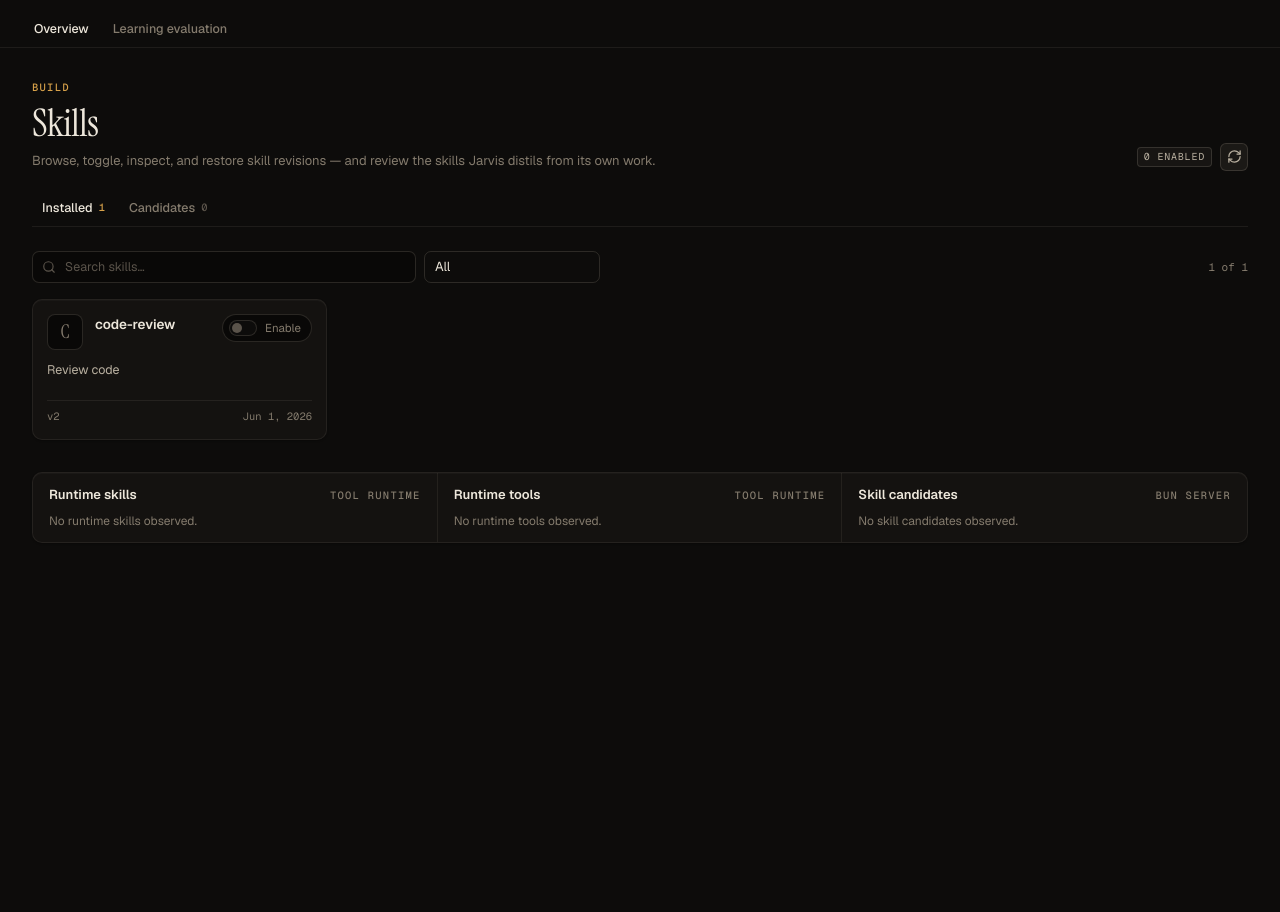
SkillsPage native toggle coordination › retains confirmed enabled=false on rejection and retries from either surface
This screenshot has width=1280, height=912.
Click the button with aria-label "Inspect skill: code-review": x=135, y=324 [95,314,175,334]
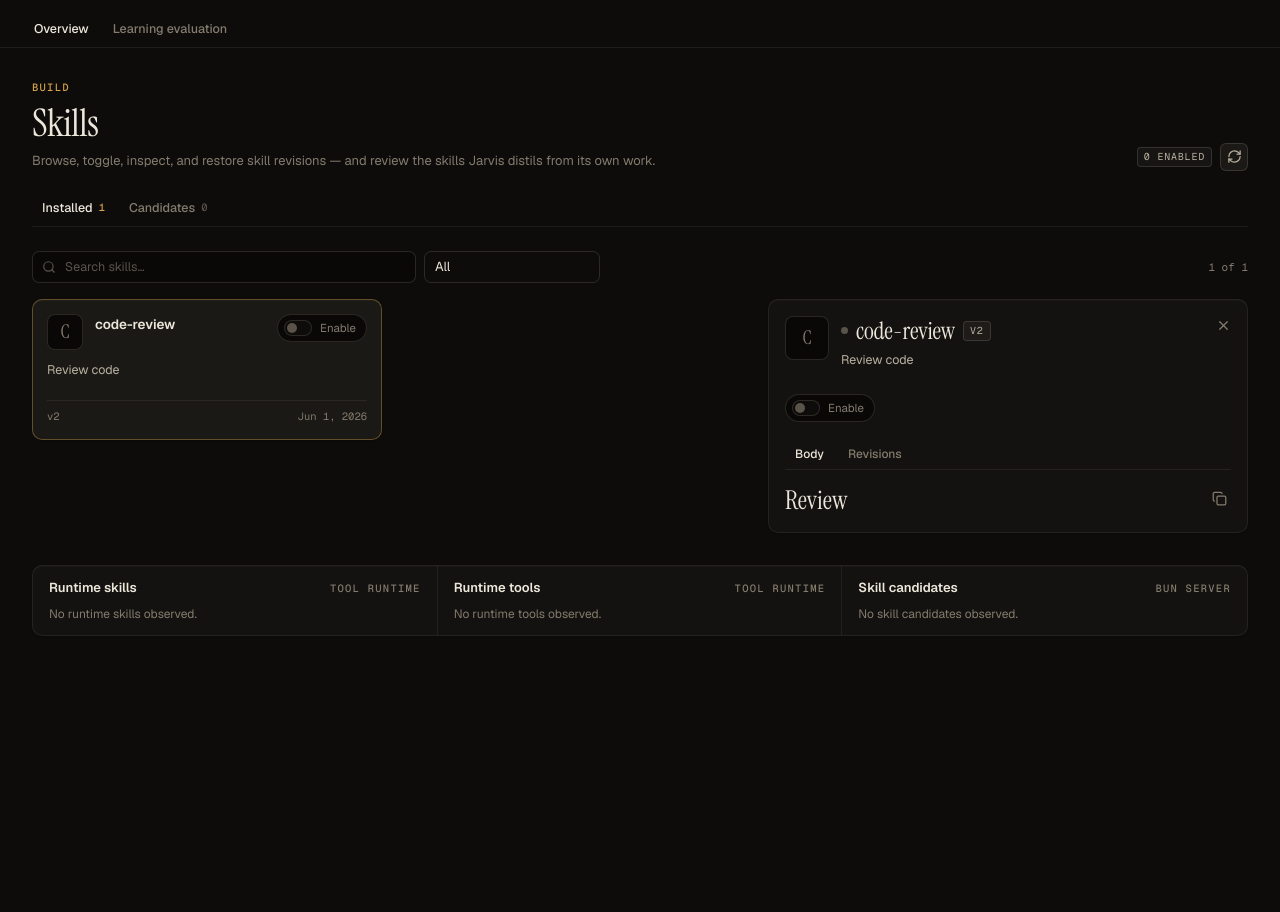
Click the 2nd button "Enable": x=830, y=408 [785,394,875,422]
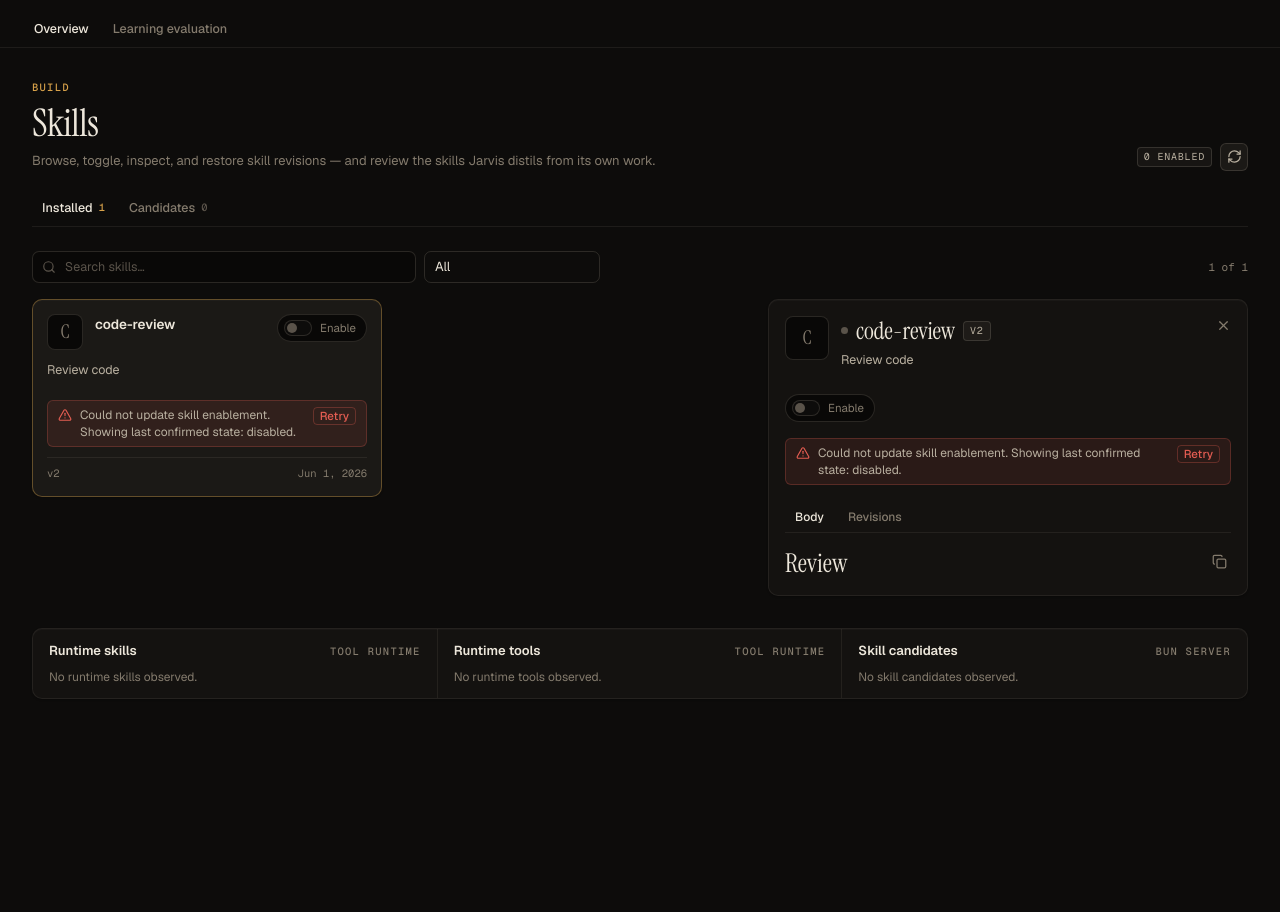
Expected: the text "0 enabled" is shown, [1144,149,1205,164]
Now the 1st message shows "Could not update skill enablement. Showing last confirmed state", box [80,407,270,440]
Click the 1st button "Retry": x=334, y=416 [313,407,356,425]
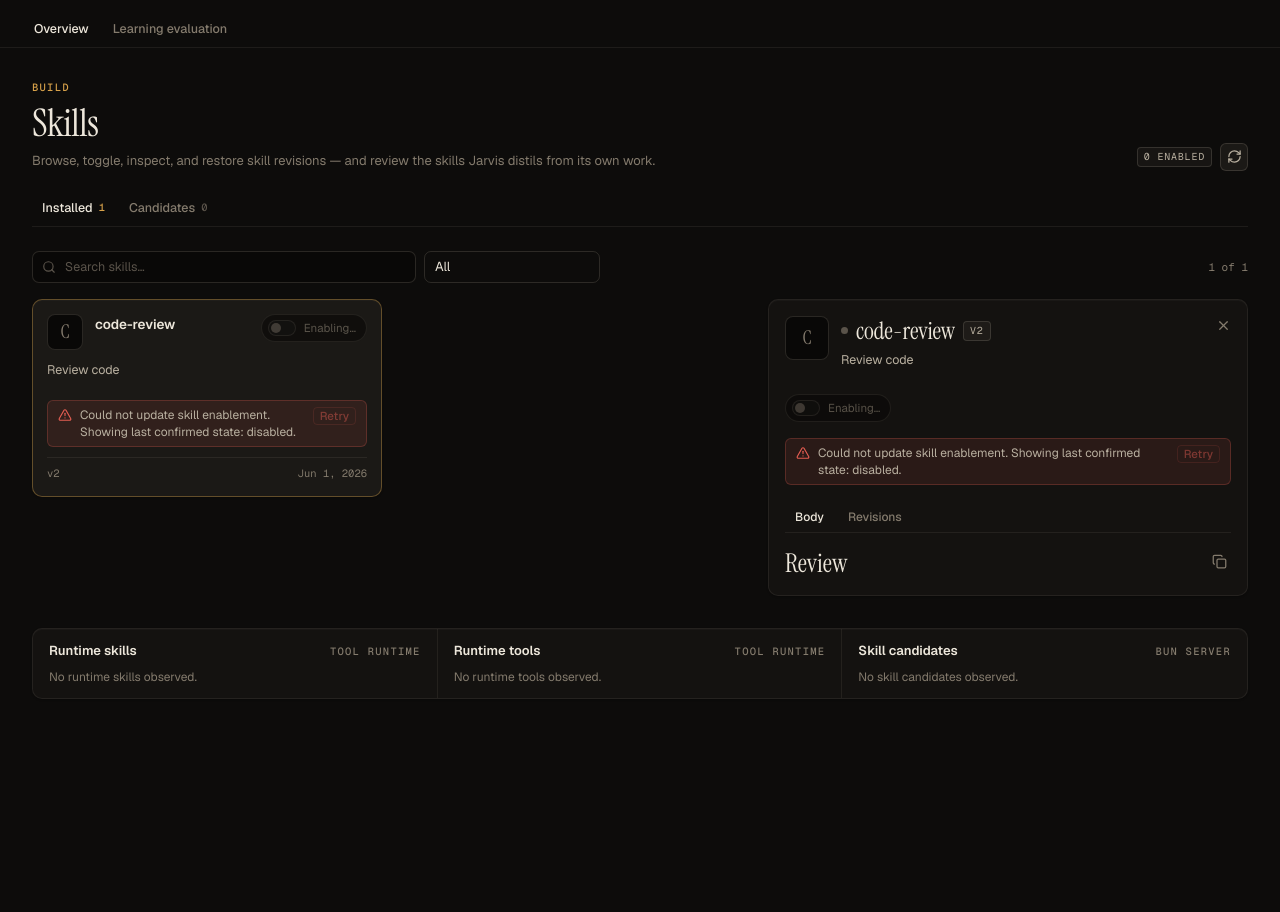
Click the 2nd button "Retry": x=1198, y=454 [1177,445,1220,463]
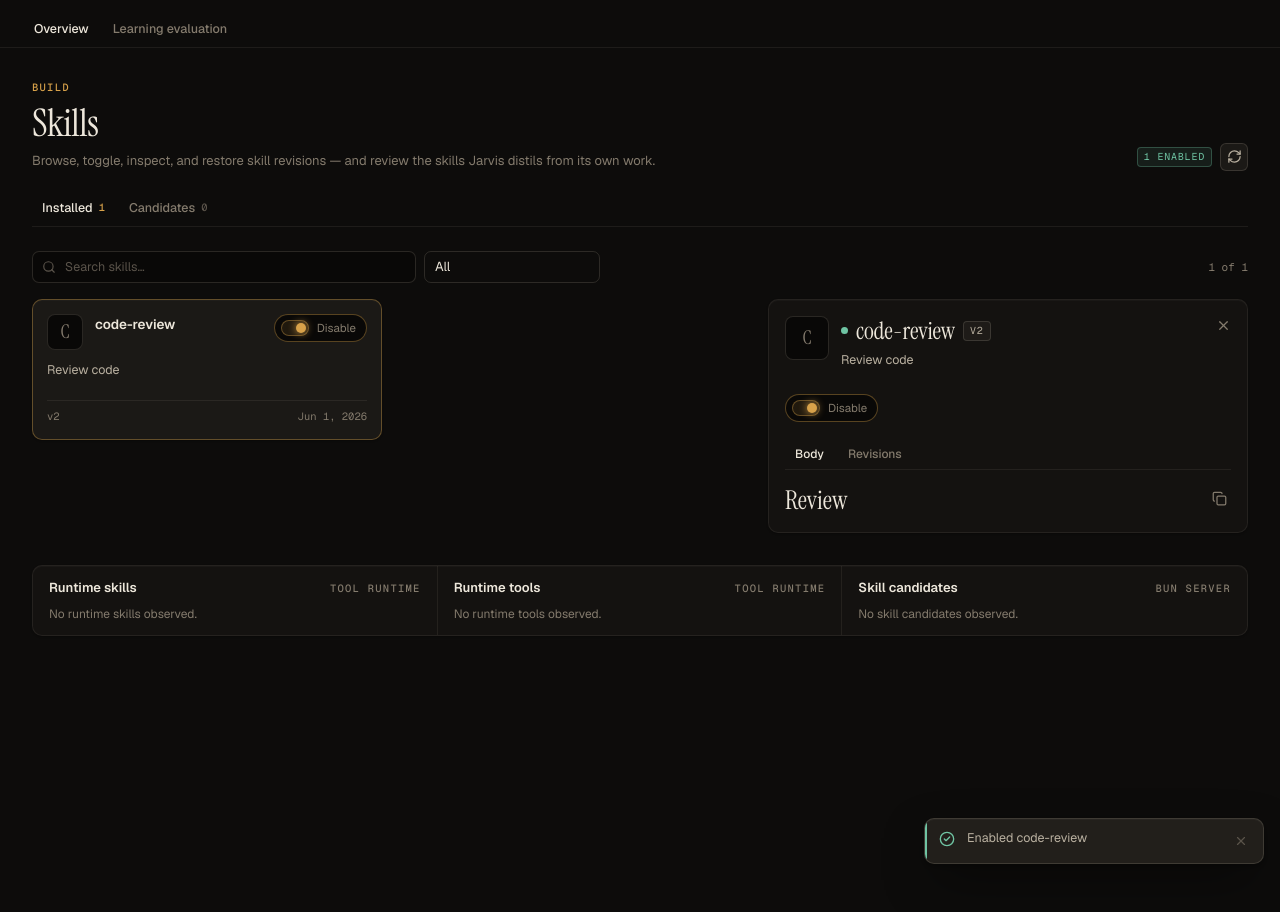
Now the text "1 enabled" is shown, box [1144,149,1205,164]
